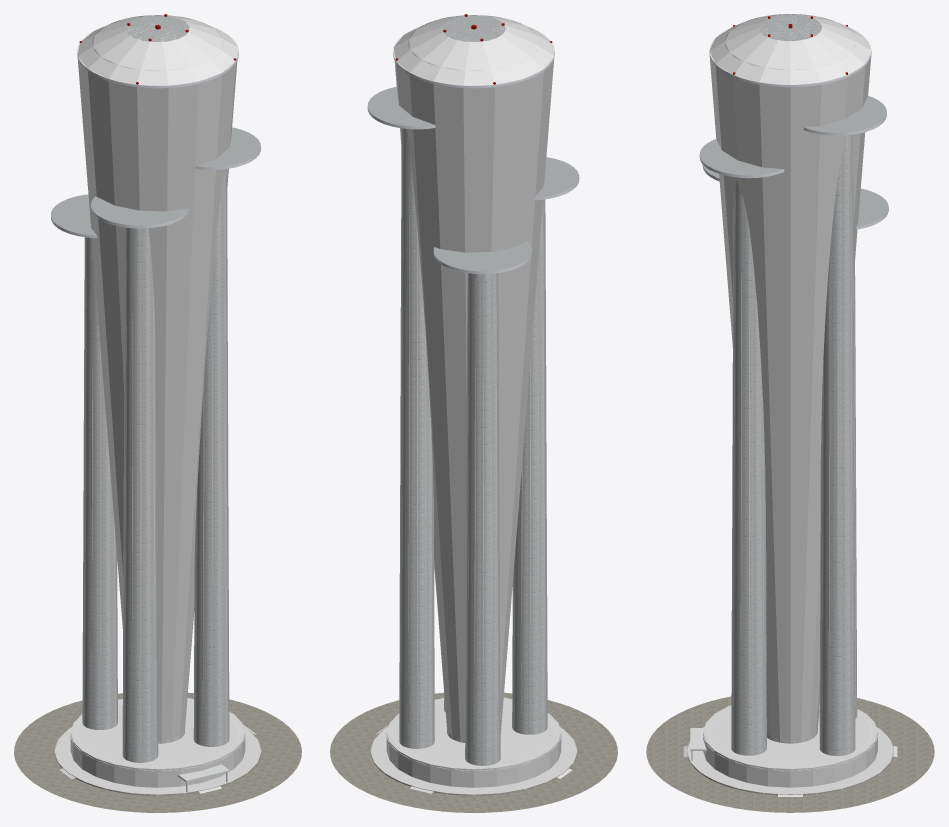
The model's file is olympictower.glb.
3 renders of one model, left to right at view 1: azimuth 30°, elevation 25°; view 2: azimuth 150°, elevation 25°; view 3: azimuth 270°, elevation 25°, orthographic.
Visible parts, largest first — view 1: COL_crown, Towers, Base, FarTowers, COL_lobby, COL_lshaft.002, COL_lshaft.001, COL_lshaft.003, COL_plinth; view 2: COL_crown, Towers, Base, FarTowers, COL_lobby, COL_lshaft, COL_lshaft.003, COL_lshaft.002, COL_plinth; view 3: COL_crown, Towers, Base, COL_lobby, FarTowers, COL_lshaft, COL_lshaft.001, COL_plinth.
Boxes of the visible parts, x1=… form: COL_crown: x1=77, y1=15, x2=238, y2=743; Towers: x1=51, y1=15, x2=260, y2=762; Base: x1=14, y1=692, x2=301, y2=812; FarTowers: x1=51, y1=15, x2=260, y2=762; COL_lobby: x1=70, y1=698, x2=245, y2=787; COL_lshaft.002: x1=122, y1=228, x2=158, y2=762; COL_lshaft.001: x1=193, y1=180, x2=229, y2=746; COL_lshaft.003: x1=82, y1=245, x2=117, y2=729; COL_plinth: x1=54, y1=727, x2=261, y2=795; COL_crown: x1=393, y1=15, x2=554, y2=742; Towers: x1=367, y1=15, x2=579, y2=765; Base: x1=330, y1=692, x2=617, y2=812; FarTowers: x1=367, y1=15, x2=578, y2=765; COL_lobby: x1=386, y1=698, x2=561, y2=787; COL_lshaft: x1=399, y1=130, x2=434, y2=748; COL_lshaft.003: x1=465, y1=273, x2=500, y2=765; COL_lshaft.002: x1=512, y1=213, x2=547, y2=734; COL_plinth: x1=370, y1=727, x2=577, y2=795; COL_crown: x1=709, y1=14, x2=871, y2=743; Towers: x1=699, y1=14, x2=888, y2=755; Base: x1=646, y1=696, x2=934, y2=812; COL_lobby: x1=703, y1=705, x2=877, y2=787; FarTowers: x1=702, y1=14, x2=886, y2=754; COL_lshaft: x1=819, y1=135, x2=855, y2=754; COL_lshaft.001: x1=731, y1=194, x2=766, y2=754; COL_plinth: x1=687, y1=727, x2=893, y2=794.
Bounding box in the file's own units: 92 × 256 × 92.
10 materials, 2 textured.
